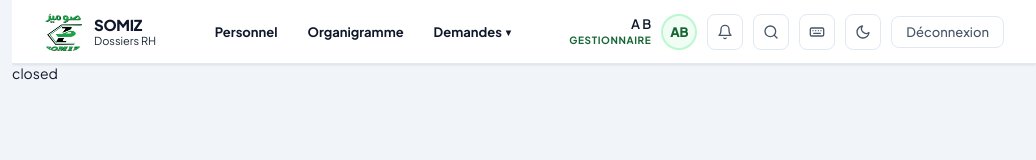
Scenario: Navbar (desktop) — menu déroulant « Demandes » › un gestionnaire autorisé aux congés voit « Congés » dans le déroulant
Click the button "Demandes ▾" at (472, 32), box [420,16,525,46]
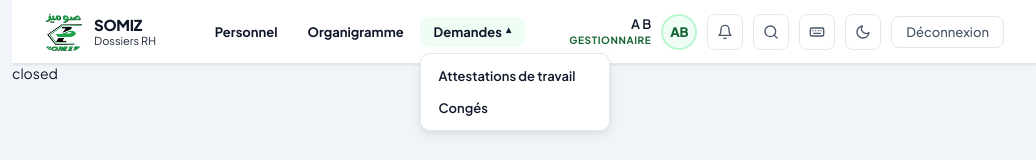
Expected: the menu item "Congés" is shown, [427,92,603,124]
